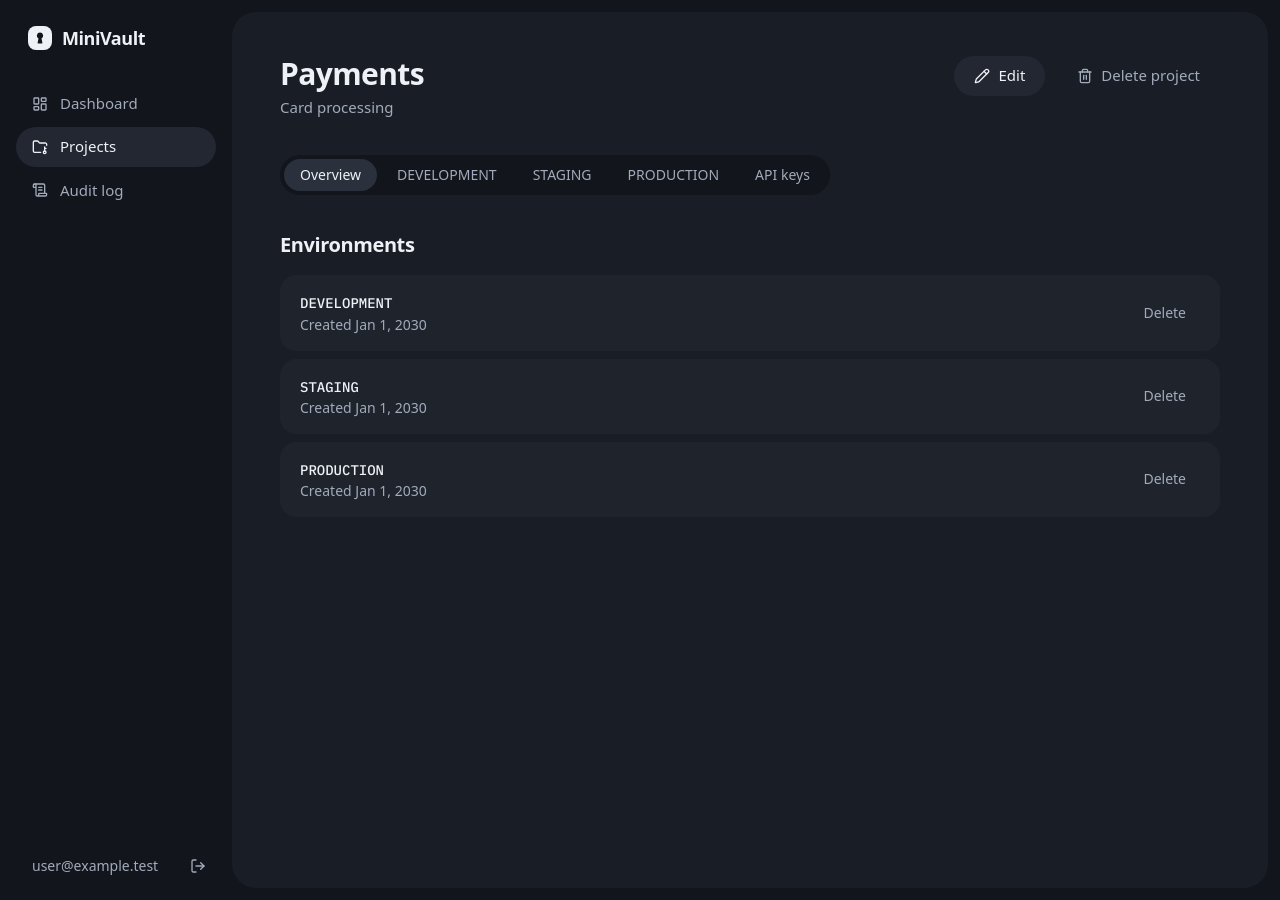
keeps the dialog open when deletion fails
Click the button "Delete project" at (1139, 76), box [1057, 56, 1220, 96]
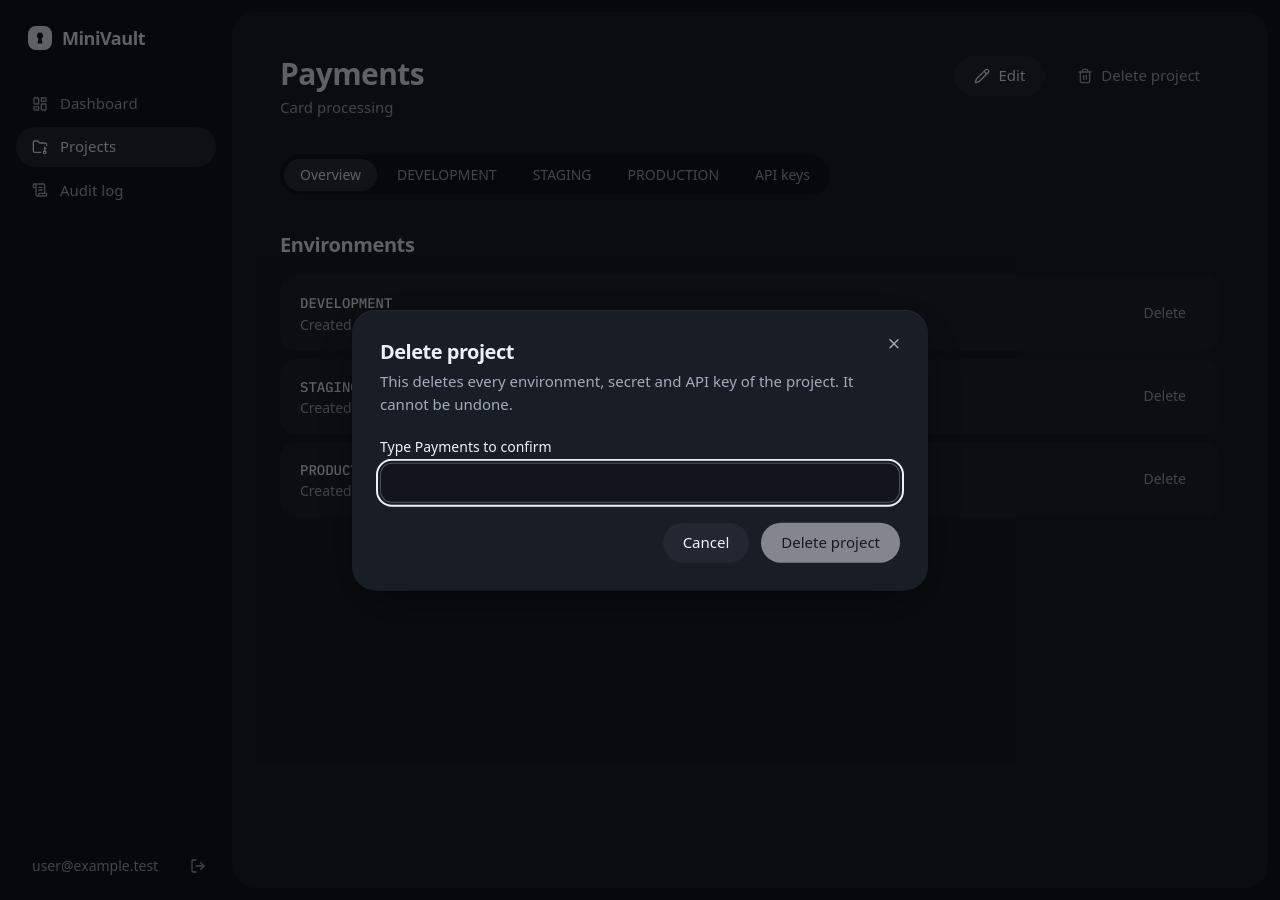
Type "Payments" into the field at (640, 482), box [380, 462, 900, 502]
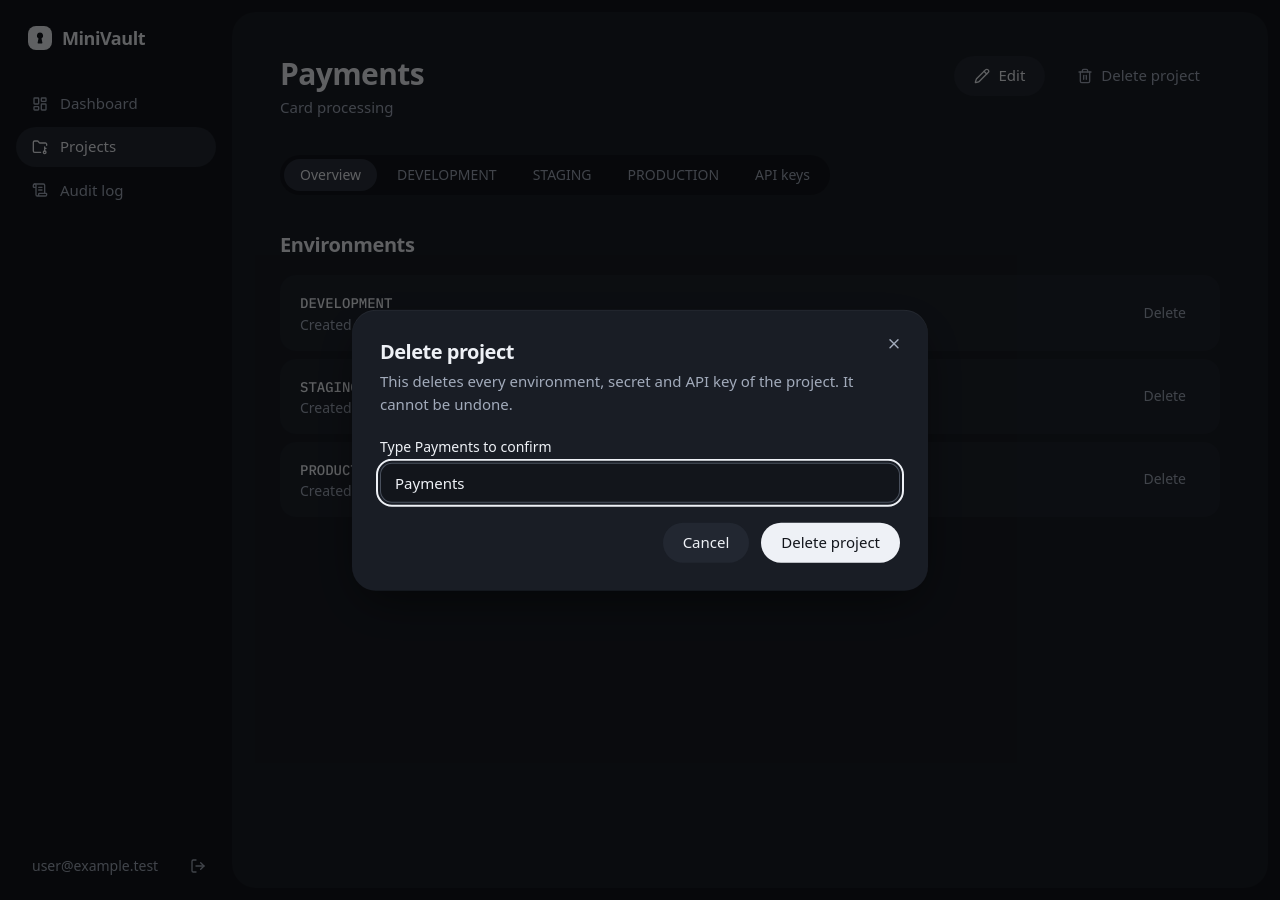
Click the button "Delete project" at (831, 542), box [761, 522, 900, 562]
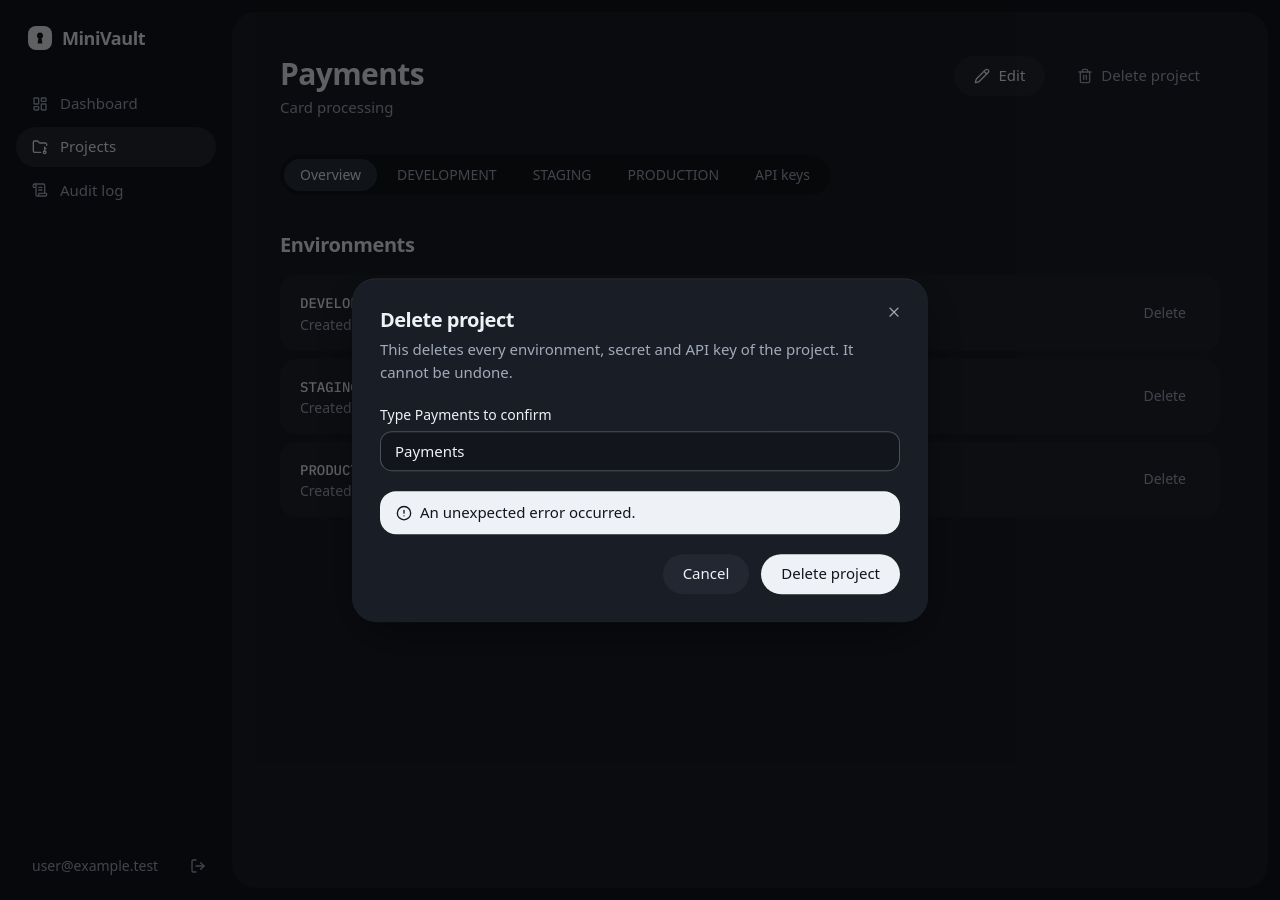
Expected: the message reads "An unexpected error occurred.", [420, 502, 636, 522]
